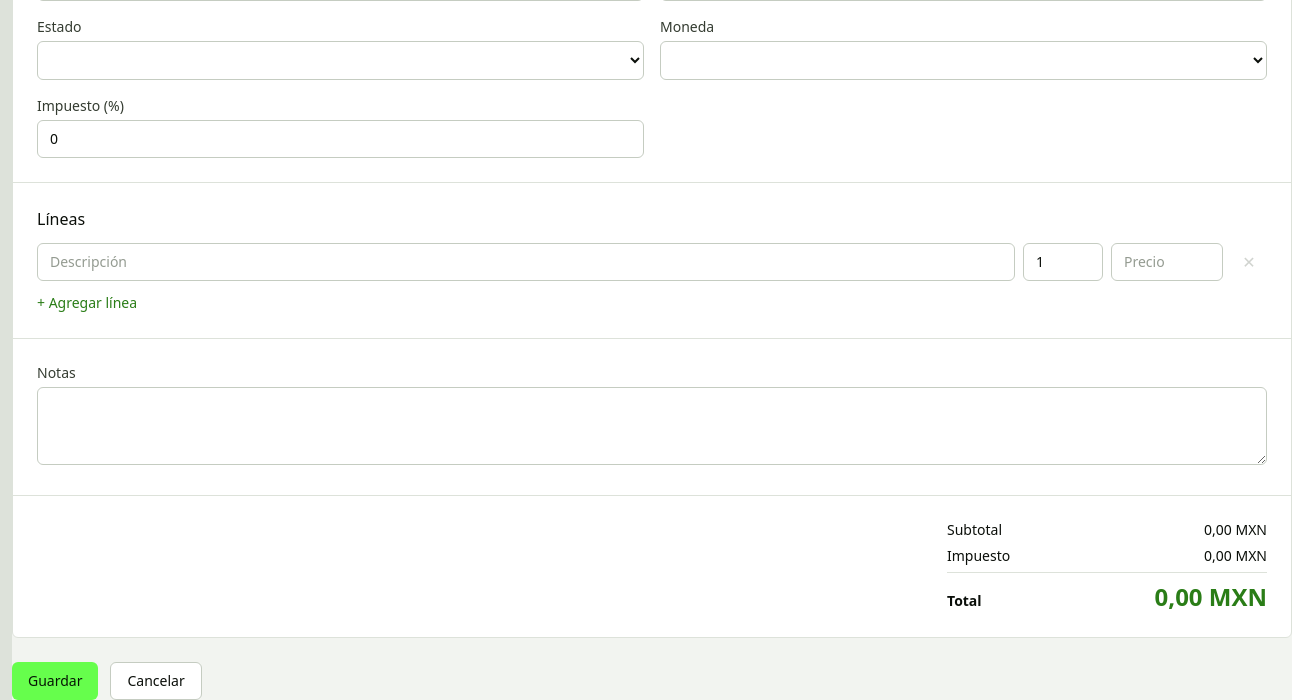
Test case: InvoiceForm › muestra errores de validación en español y no envía
(page scrolled)
Click the button "Guardar". click: (55, 681)
box: [12,662,98,699]
(page scrolled)
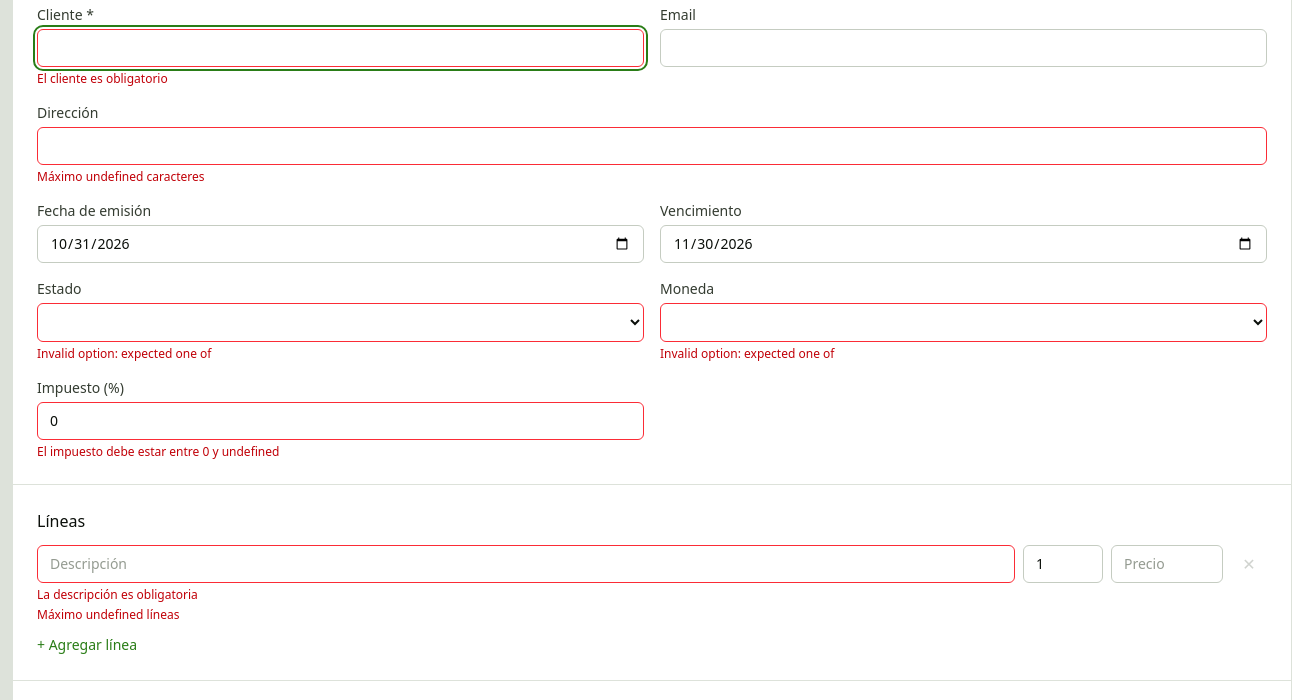
Now the text "El cliente es obligatorio" is shown, box [37,70,168,87]
Now the text "La descripción es obligatoria" is shown, box [37,586,198,603]
